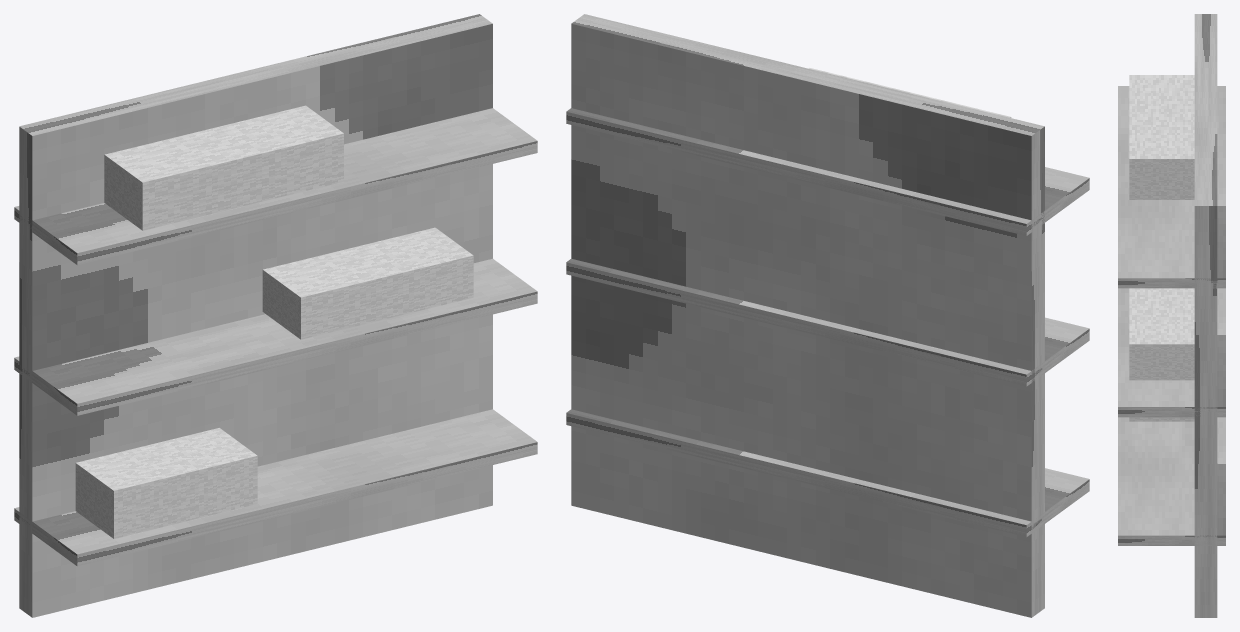
File: store_shelf.obj
3 views of the same model, side by side, from view 1: azimuth 30°, elevation 25°; view 2: azimuth 150°, elevation 25°; view 3: azimuth 270°, elevation 25° (orthographic). The views are drawn at different scales.
Visible parts, largest first — view 1: part0, part1, part2, part6, part3, part5, part4; view 2: part0, part2, part3, part1; view 3: part0, part1, part3, part6, part5, part2, part4.
Part boxes in pixels (bbox=[...]): part0: bbox=[19, 14, 492, 617]; part1: bbox=[14, 409, 537, 566]; part2: bbox=[14, 258, 537, 415]; part6: bbox=[104, 105, 343, 230]; part3: bbox=[14, 108, 537, 265]; part5: bbox=[262, 227, 473, 339]; part4: bbox=[75, 428, 257, 538]; part0: bbox=[571, 14, 1044, 617]; part2: bbox=[566, 258, 1089, 386]; part3: bbox=[566, 108, 1089, 235]; part1: bbox=[566, 409, 1089, 537]; part0: bbox=[1194, 14, 1217, 617]; part1: bbox=[1118, 417, 1225, 545]; part3: bbox=[1118, 86, 1225, 288]; part6: bbox=[1129, 75, 1194, 199]; part5: bbox=[1129, 288, 1194, 380]; part2: bbox=[1118, 288, 1225, 417]; part4: bbox=[1129, 417, 1194, 421].
Size of the model in its own units: 1.6 by 1.6 by 0.38.
Materials: 7 (7 with a texture image).
